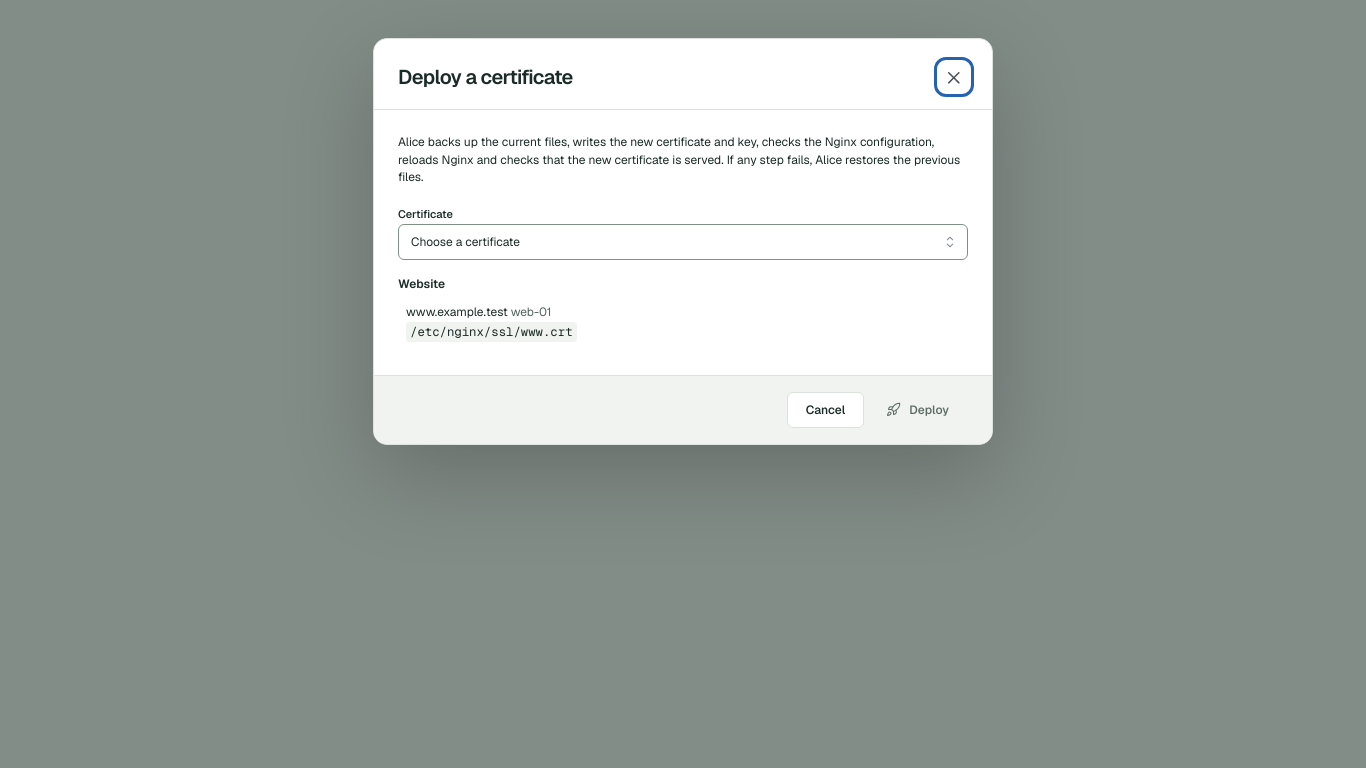
Test: DeployDialog states › says "no change needed" for an unchanged deployment
This screenshot has width=1366, height=768.
Select "new.example.test (ECDSA, valid until Sep 1, 2027)" in the dropdown labelled "Certificate" at (683, 242), box [398,224,968,260]
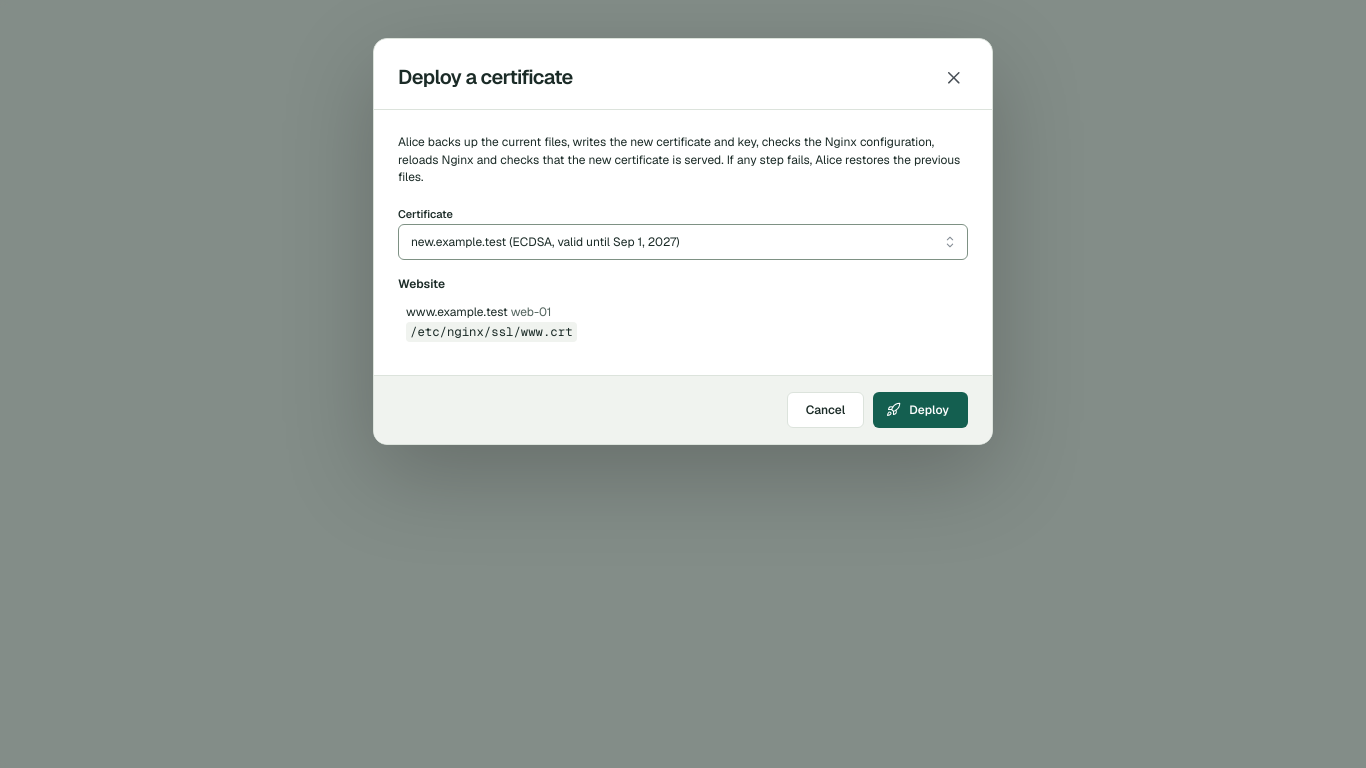
Click the button "Deploy" at (921, 410), box [873,392,968,428]
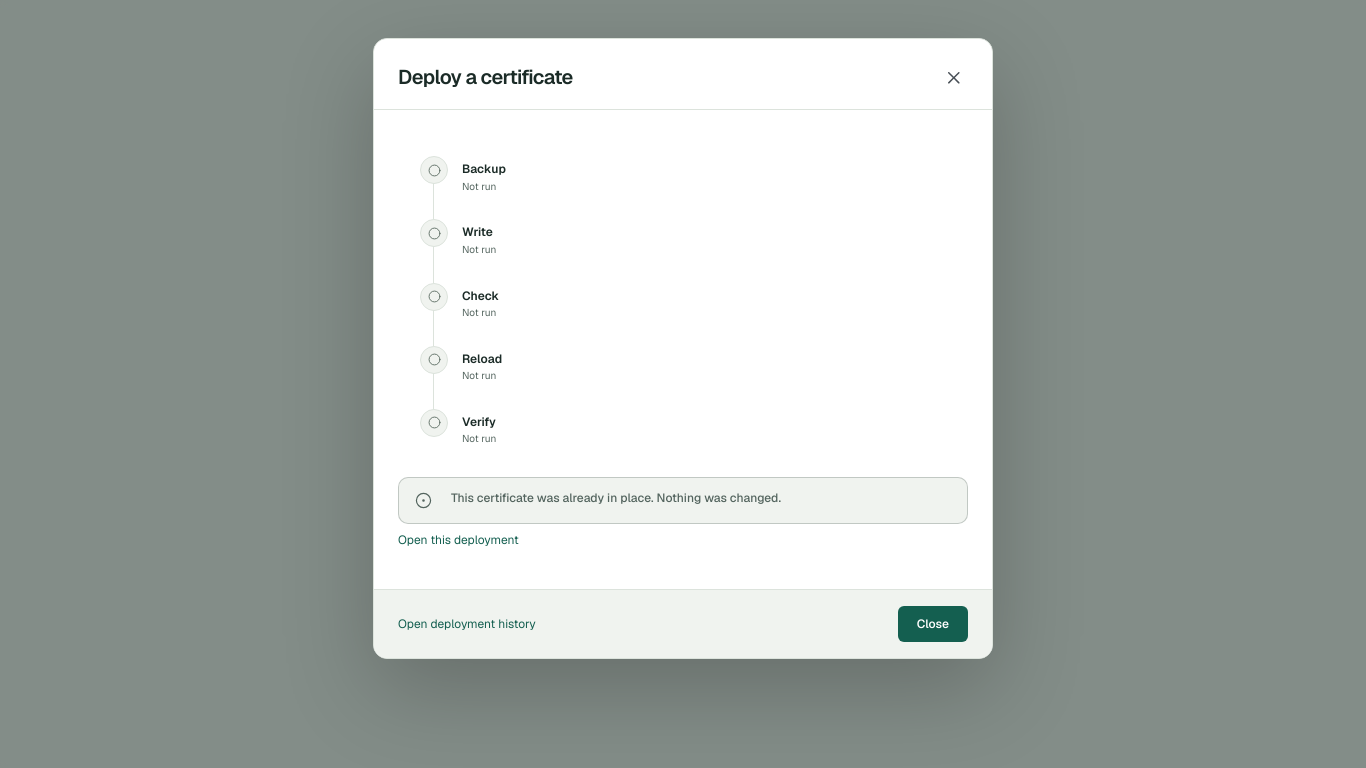
Expected: the text "This certificate was already in place. Nothing was changed." is shown, [451,490,781,506]
